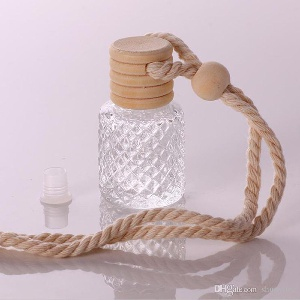emptybottle: (95, 34, 188, 209)
